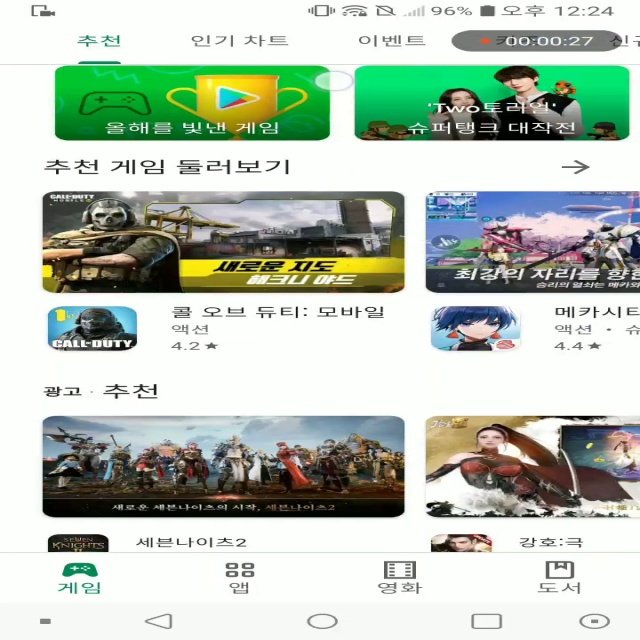Cursor: (312, 71, 357, 93)
